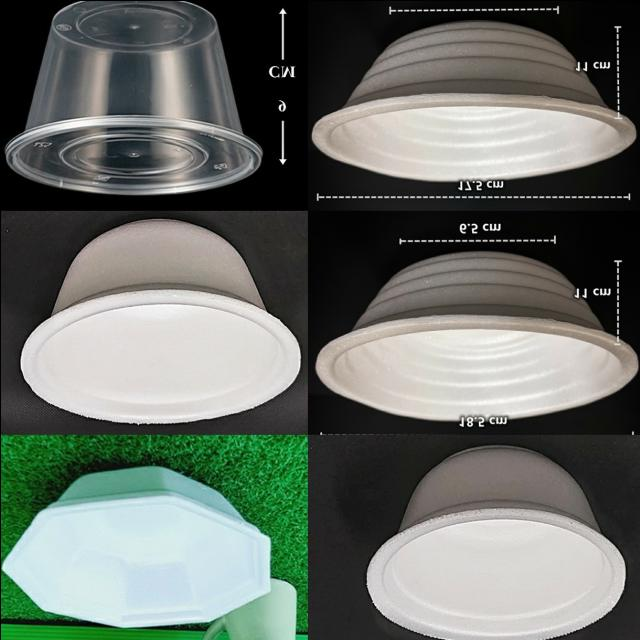plastik: (20, 219, 299, 422), (315, 251, 637, 426), (311, 19, 635, 180), (366, 445, 625, 640), (5, 0, 261, 195), (1, 465, 269, 626)
